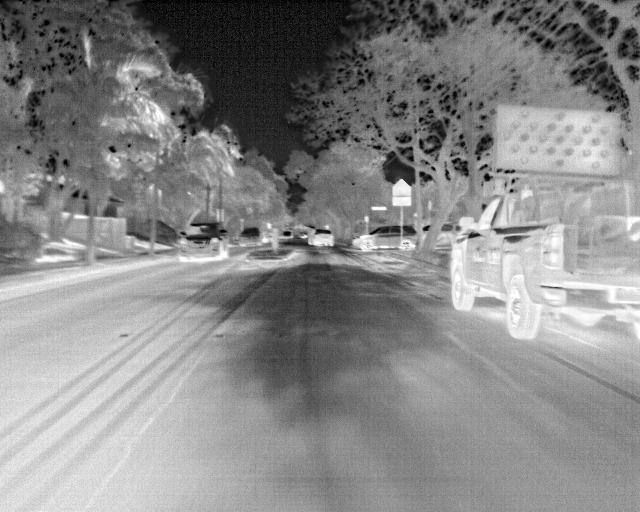car: (449, 101, 639, 341), (175, 222, 231, 262), (350, 225, 398, 253), (307, 228, 336, 248), (238, 227, 264, 247), (403, 224, 417, 250), (441, 221, 455, 247), (281, 229, 295, 241), (260, 229, 270, 245), (299, 230, 309, 239)
